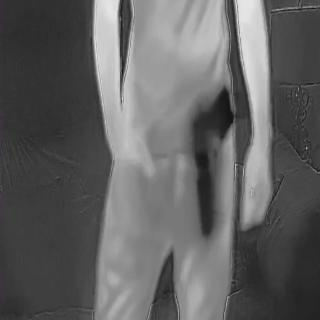Gun: (186, 81, 239, 251)
